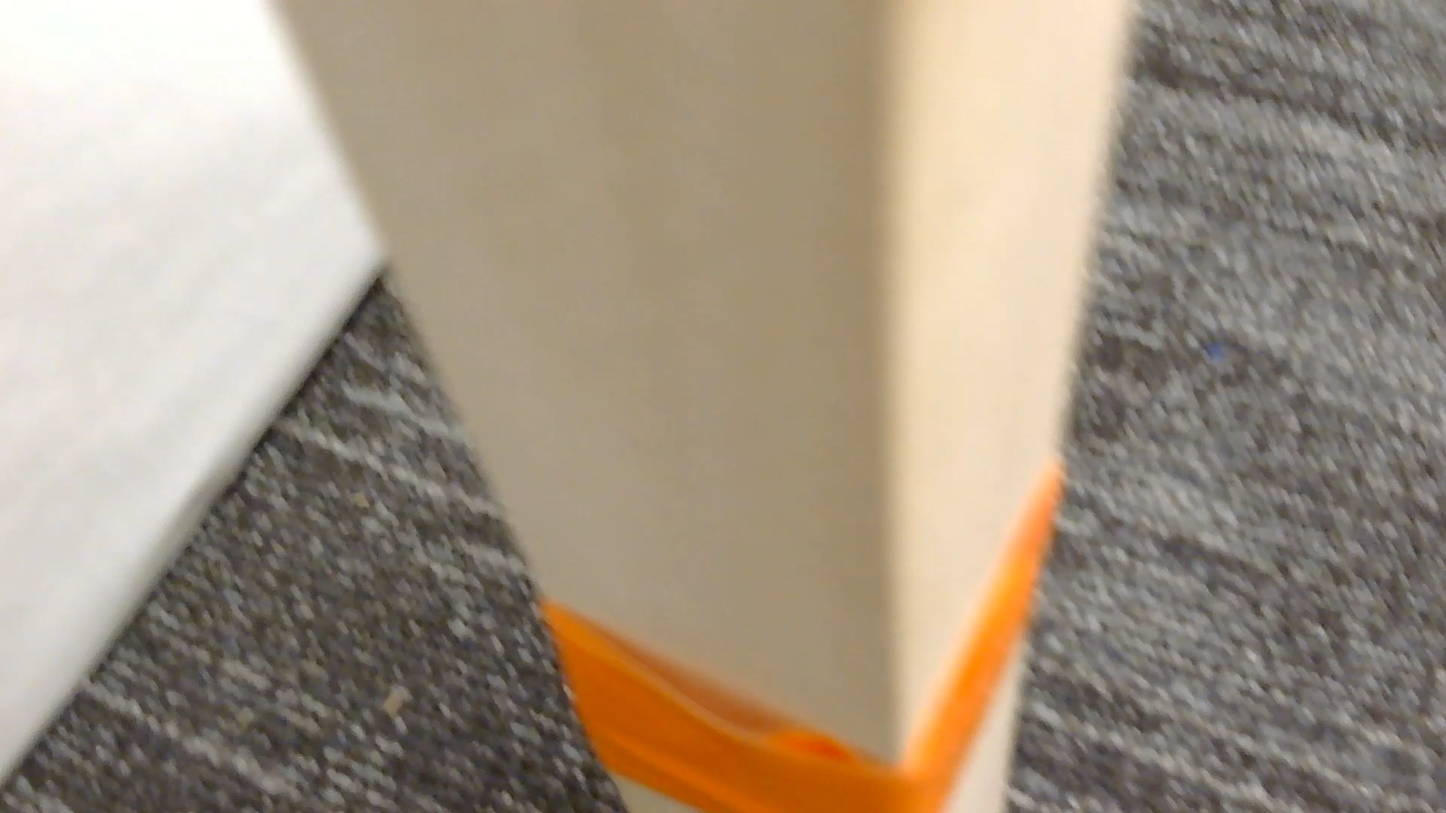Wooden Block: (284, 0, 1133, 812)
